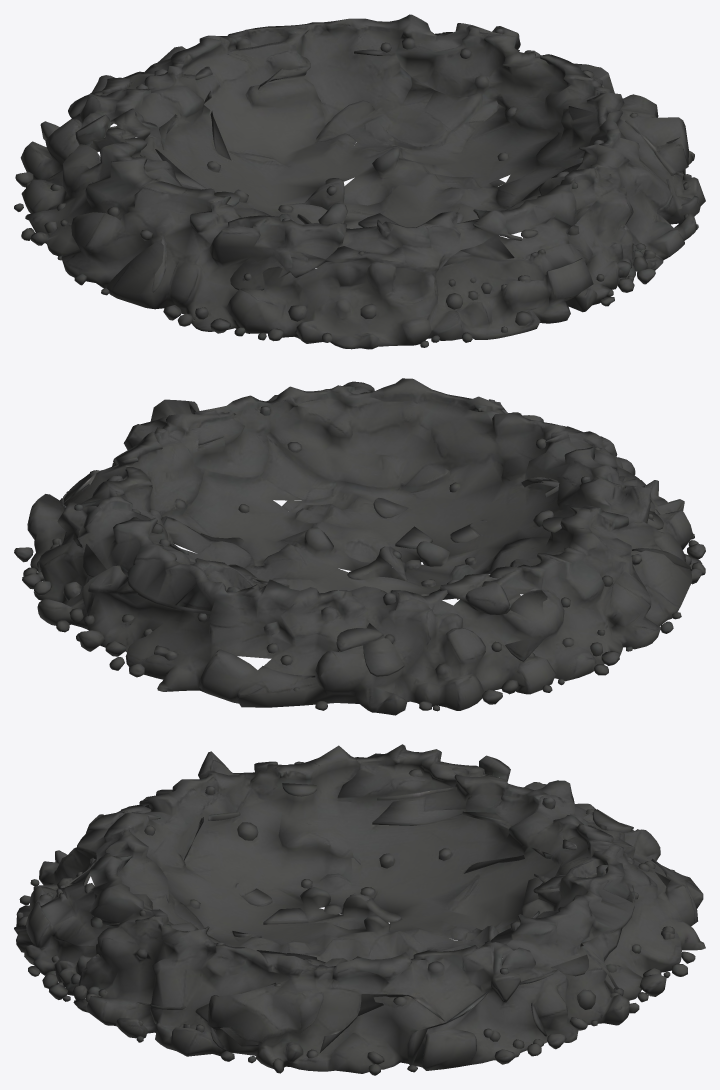
The model's file is impact-crater.glb.
The picture shows the model from 3 angles, top to bottom: view 1: azimuth 30°, elevation 25°; view 2: azimuth 150°, elevation 25°; view 3: azimuth 270°, elevation 25°; orthographic projection.
Visible parts, largest first — view 1: tripo_node_0cccf922-4279-4933-af38-37c1aa0aaf27; view 2: tripo_node_0cccf922-4279-4933-af38-37c1aa0aaf27; view 3: tripo_node_0cccf922-4279-4933-af38-37c1aa0aaf27.
Part boxes in pixels (bbox=[...]): tripo_node_0cccf922-4279-4933-af38-37c1aa0aaf27: bbox=[14, 14, 705, 349]; tripo_node_0cccf922-4279-4933-af38-37c1aa0aaf27: bbox=[14, 378, 705, 715]; tripo_node_0cccf922-4279-4933-af38-37c1aa0aaf27: bbox=[14, 744, 705, 1075].
Size of the model in its own units: 0.98 by 0.1362 by 0.9995.
Materials: 1 (1 with a texture image).
